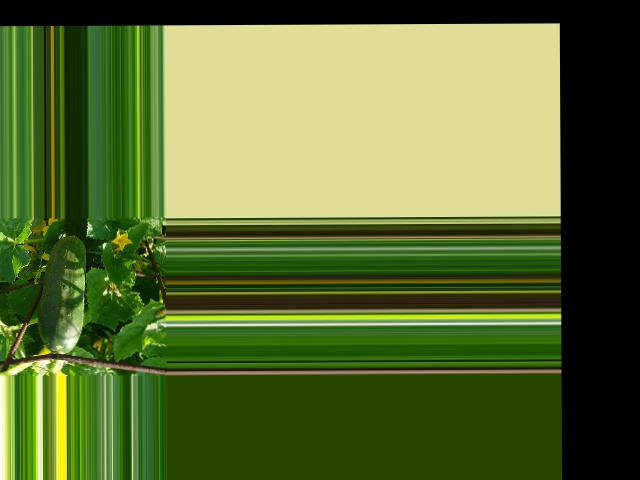cucumber: (35, 234, 86, 353)
